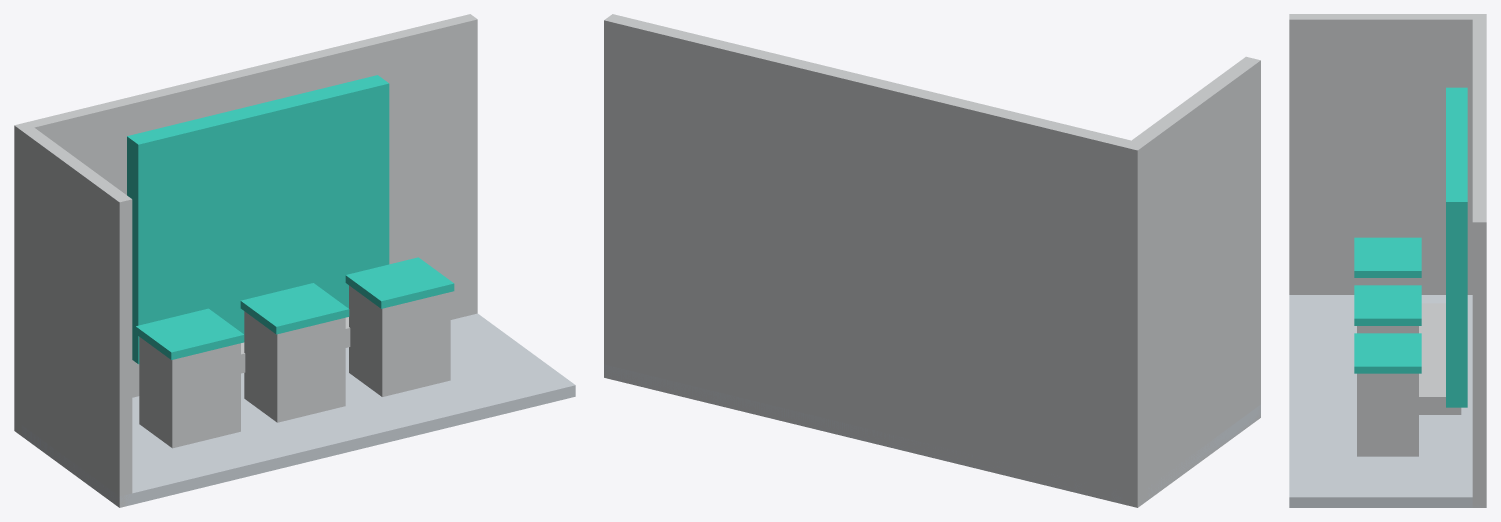
3 views of the same model, side by side, from view 1: azimuth 30°, elevation 25°; view 2: azimuth 150°, elevation 25°; view 3: azimuth 270°, elevation 25° (orthographic). The views are drawn at different scales.
Visible parts, largest first — view 1: Exhibition Booth Concept; view 2: Exhibition Booth Concept; view 3: Exhibition Booth Concept.
Boxes of the visible parts, bbox=[...] form: Exhibition Booth Concept: bbox=[14, 14, 575, 507]; Exhibition Booth Concept: bbox=[604, 14, 1260, 507]; Exhibition Booth Concept: bbox=[1289, 14, 1486, 507].
Bounding box in the file's own units: 5 × 3.2 × 2.
